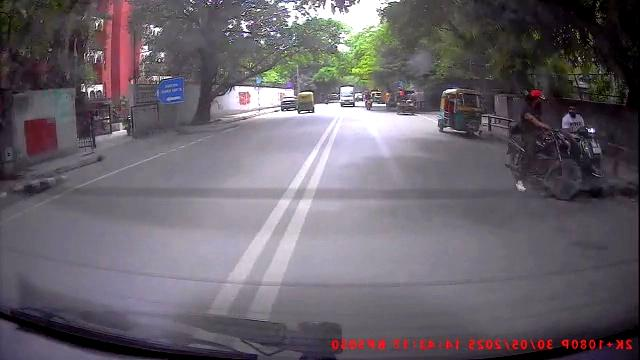motorcycle_without_helmet: (505, 89, 575, 193), (560, 100, 604, 195)
